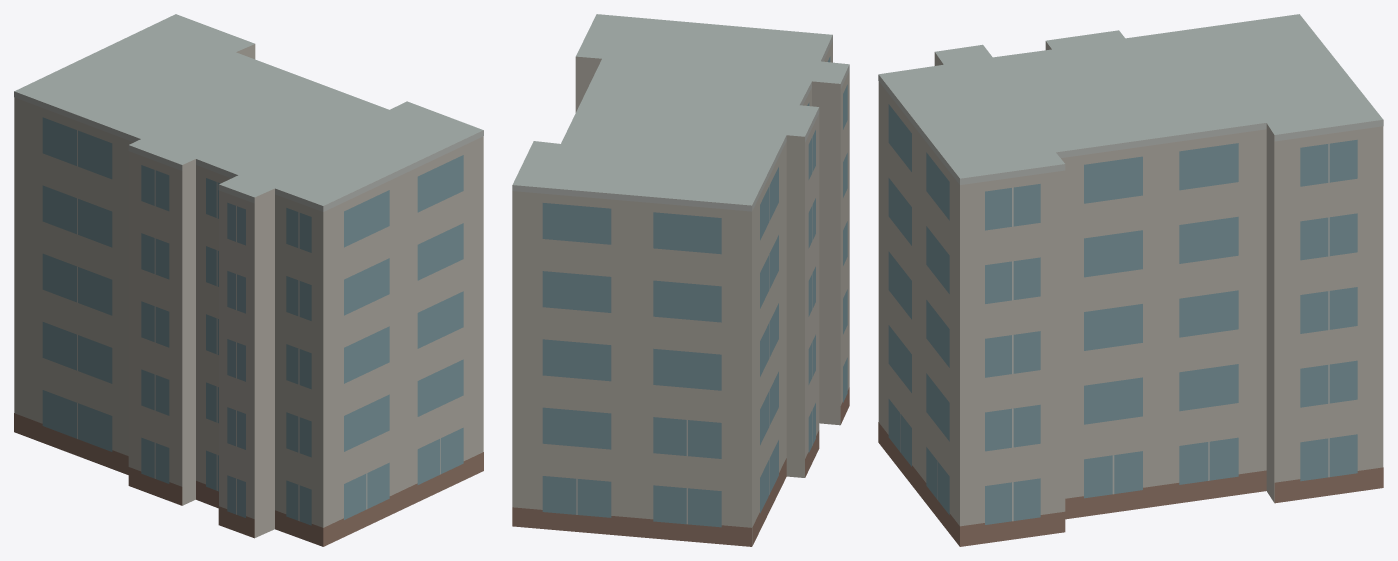
Rendered from survey-upis-32701871.glb.
The picture shows the model from 3 angles, left to right: view 1: azimuth 30°, elevation 25°; view 2: azimuth 150°, elevation 25°; view 3: azimuth 270°, elevation 25°; orthographic projection. The views are drawn at different scales.
Visible parts, largest first — view 1: survey-upis-32701871.tmp; view 2: survey-upis-32701871.tmp; view 3: survey-upis-32701871.tmp.
Boxes of the visible parts, <box> form: survey-upis-32701871.tmp: <box>14,14,483,546</box>; survey-upis-32701871.tmp: <box>512,14,849,546</box>; survey-upis-32701871.tmp: <box>878,14,1383,546</box>.
Bounding box in the file's own units: 13.3 × 13.85 × 17.23.
